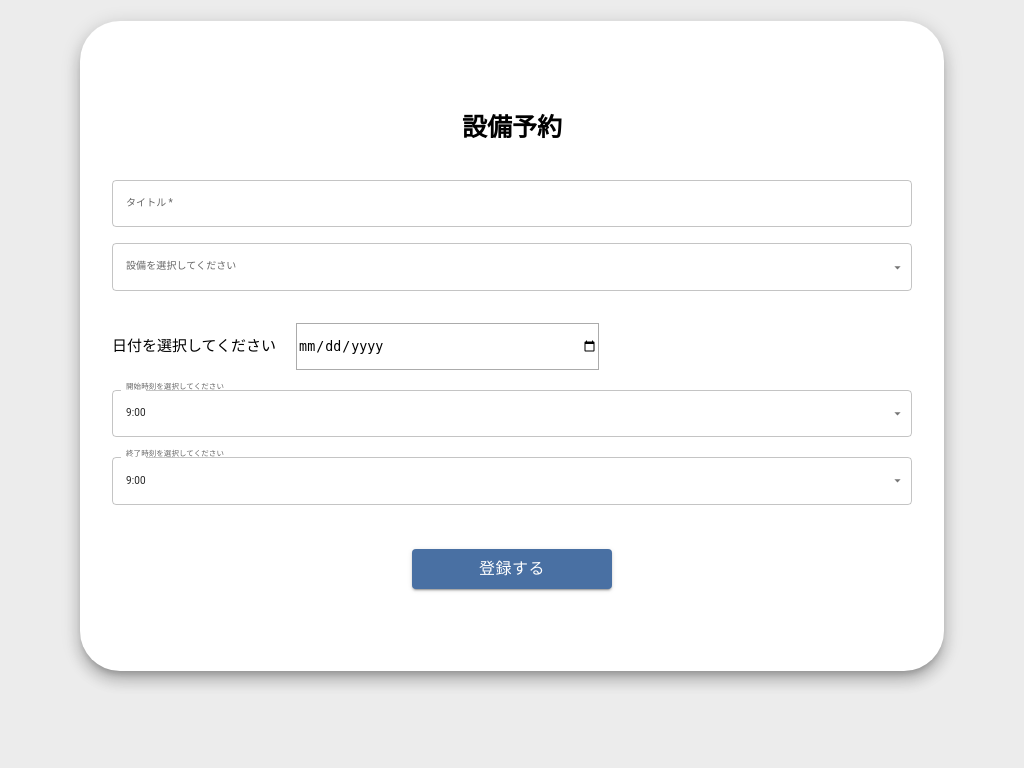
Test: Reserve Component Test Case › should validation Msg when the input is Empty
What coordinates should you click on to do the following:
click the button with test id "btn-post"
I would click on:
 (512, 569)
Its box is [412, 549, 612, 589].
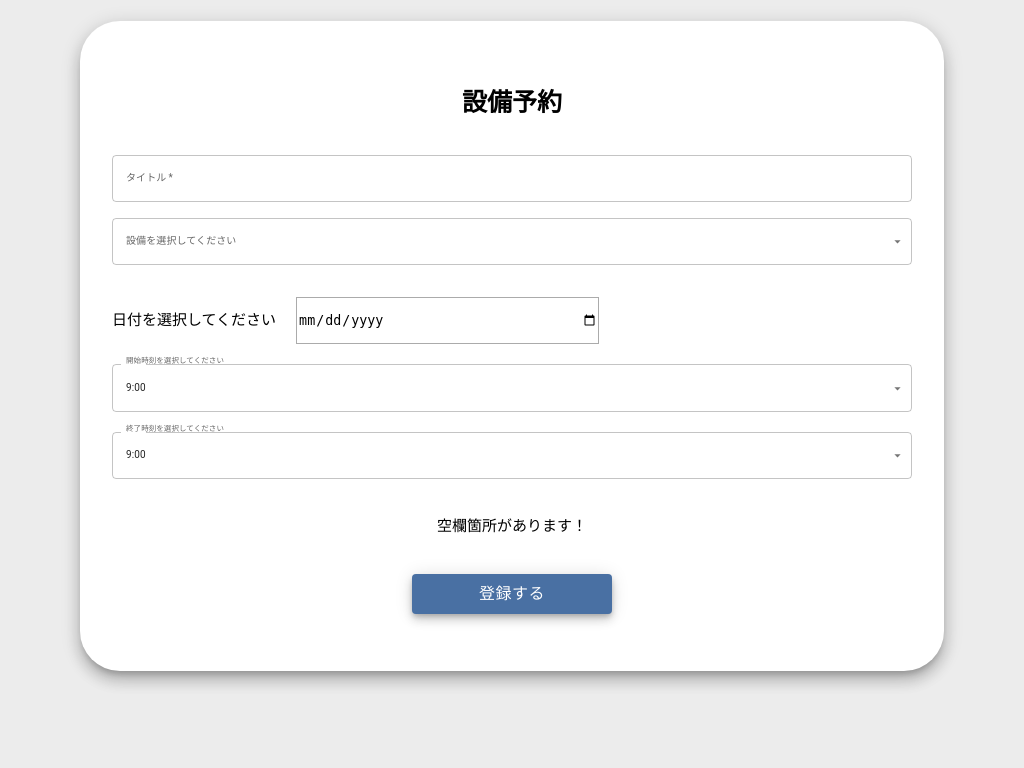
Expected: the text "空欄箇所があります！" is shown, [437, 516, 587, 535]
